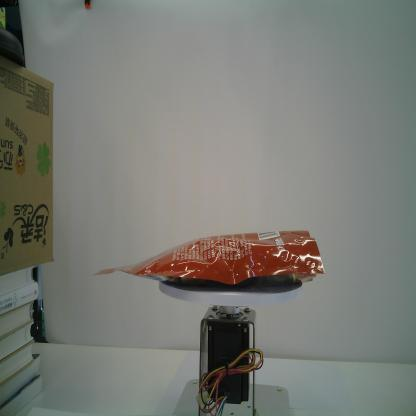Dried Food: (90, 229, 328, 292)
